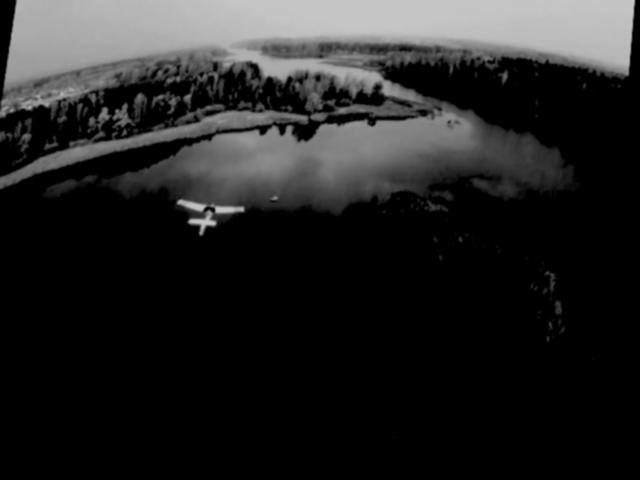hedef: (175, 194, 246, 249)
